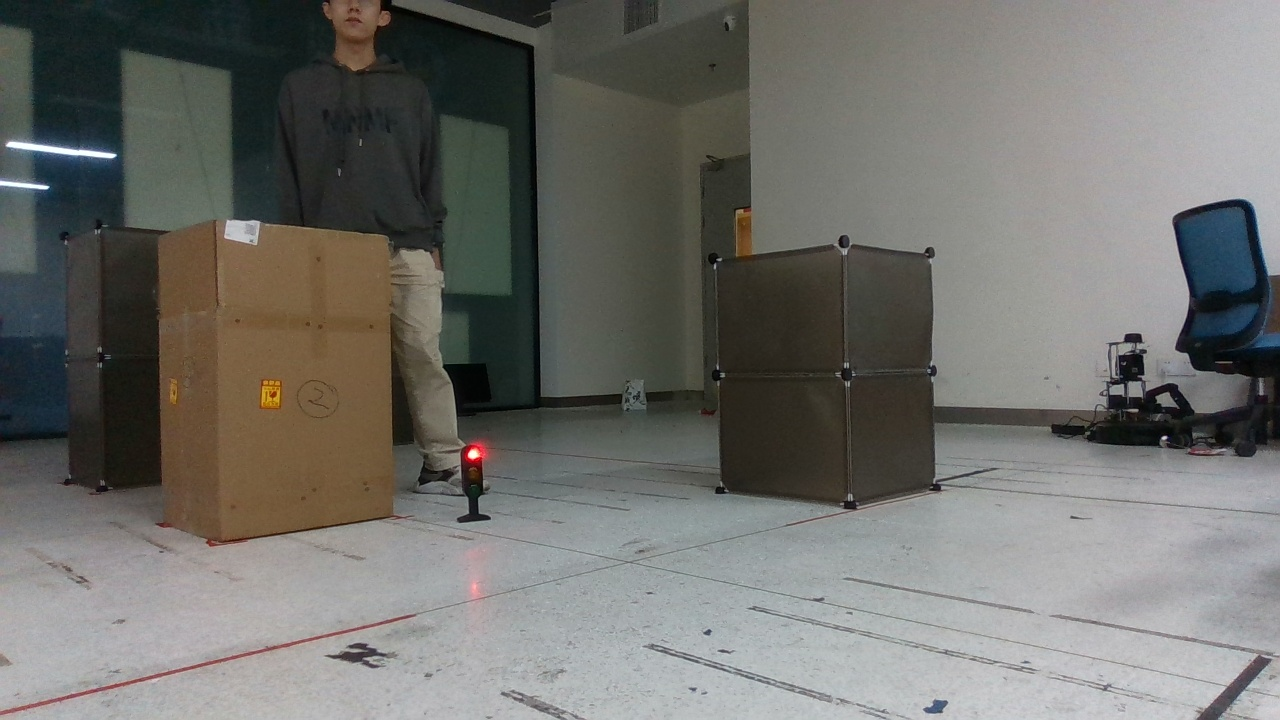red_light: (443, 435, 506, 525)
